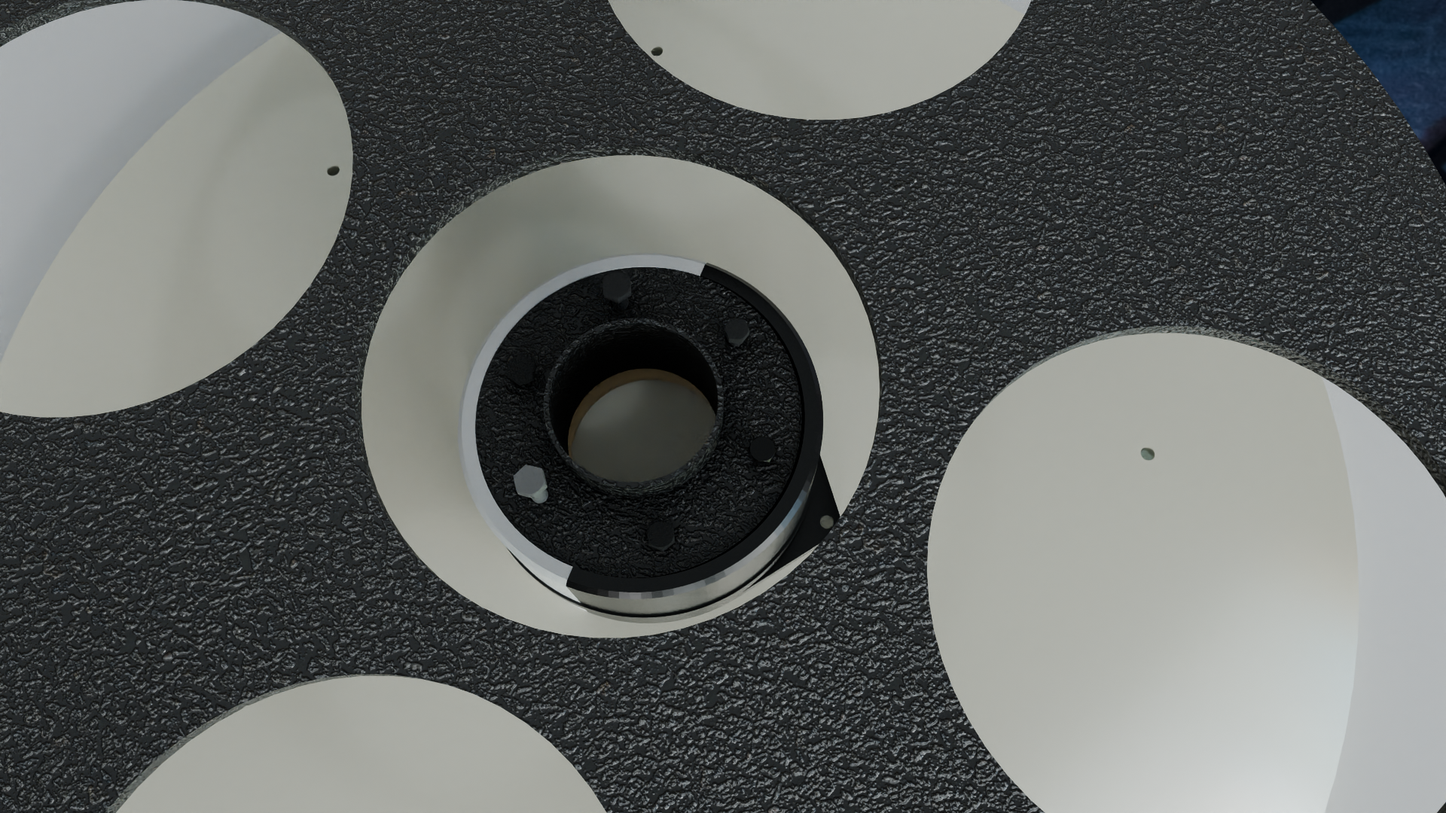bolt: (514, 464, 545, 496), (647, 520, 675, 550), (602, 271, 630, 300), (507, 355, 535, 382), (748, 437, 777, 462), (724, 318, 749, 340)
